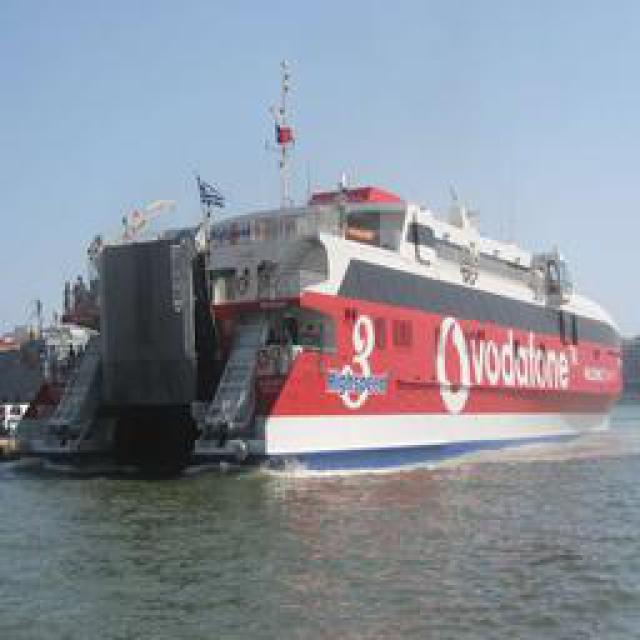Ship: (4, 160, 625, 484)
